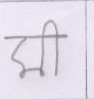i_matra: (45, 20, 62, 75)
